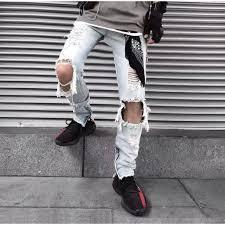pants: (54, 23, 149, 176)
